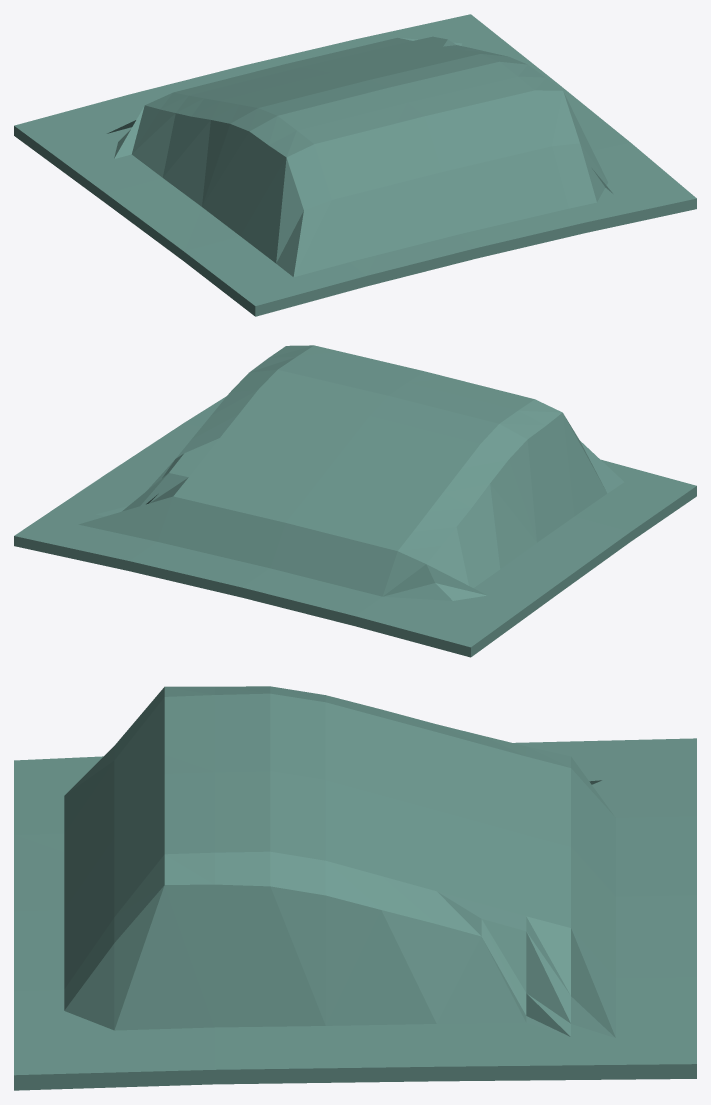
Rendered from kaze_gt_bonnet_cowl.glb.
3 renders of one model, top to bottom at view 1: azimuth 30°, elevation 25°; view 2: azimuth 150°, elevation 25°; view 3: azimuth 270°, elevation 25°, orthographic. The views are drawn at different scales.
Parts seen in each view (by area): view 1: model; view 2: model; view 3: model.
Boxes of the visible parts, left/top/right/bottom form: model: left=14, top=14, right=696, bottom=316; model: left=14, top=345, right=696, bottom=657; model: left=14, top=686, right=696, bottom=1090.
Bounding box in the file's own units: 1.42 × 0.3306 × 1.26.
